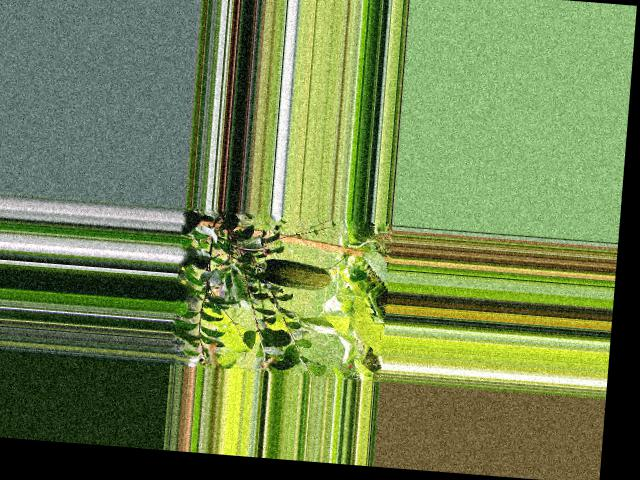cucumber: (254, 256, 332, 290)
